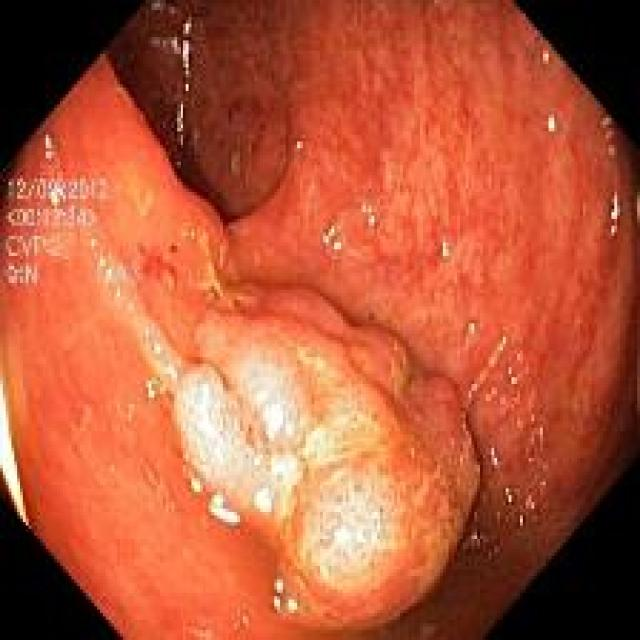Polyps: (174, 284, 479, 627)
